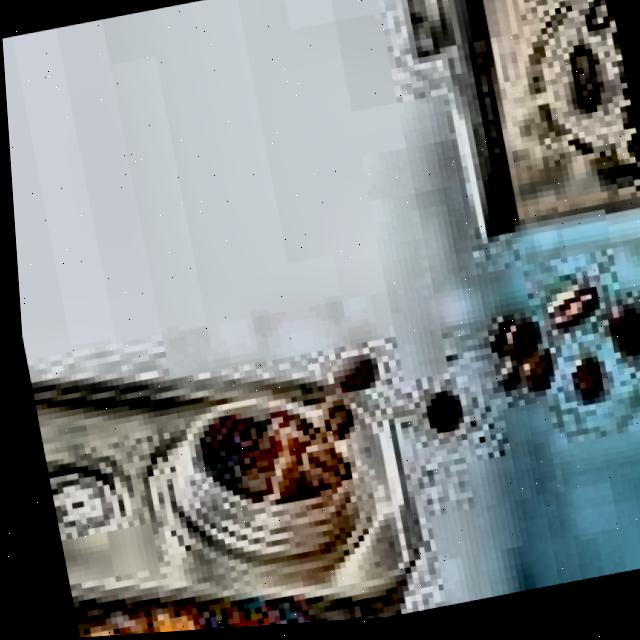metal: (21, 310, 438, 640), (377, 0, 640, 271)
